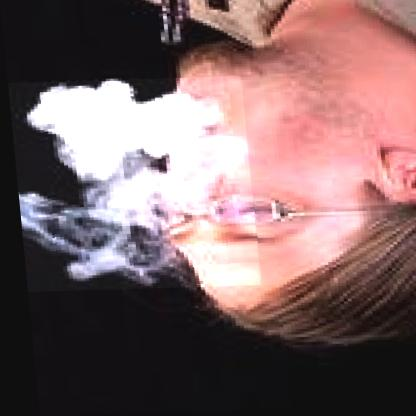smoke: (6, 78, 255, 292)
